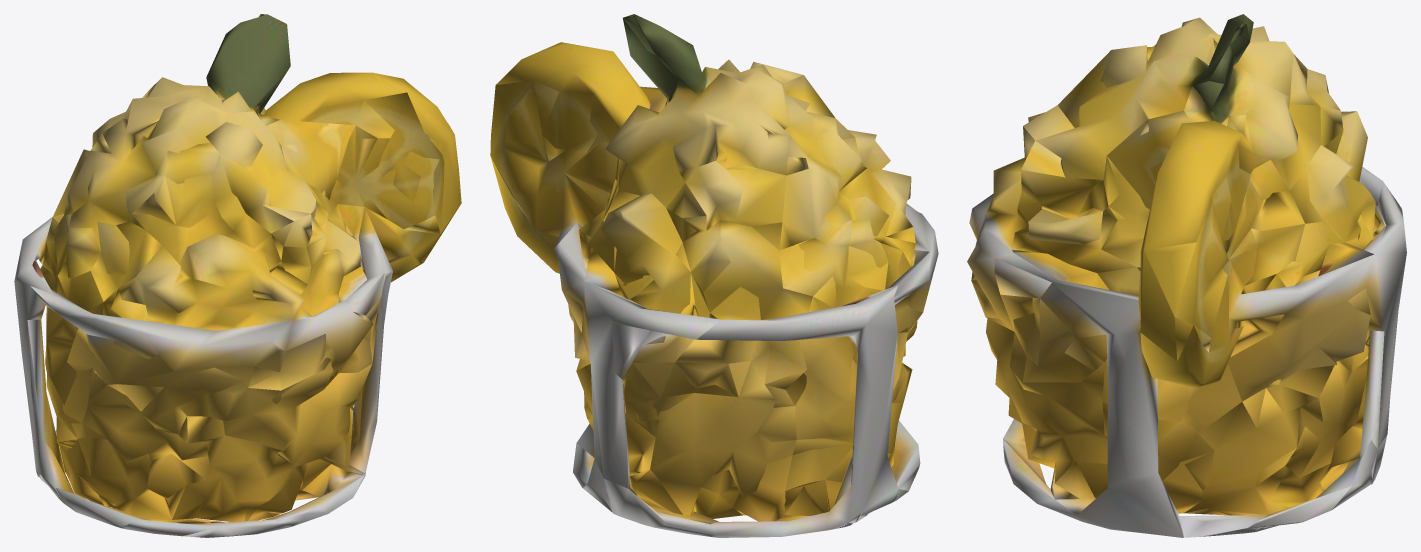
Rendered from IT_사물_s4_food_tier2_lemon_granita.glb.
3 renders of one model, left to right at view 1: azimuth 30°, elevation 25°; view 2: azimuth 150°, elevation 25°; view 3: azimuth 270°, elevation 25°, orthographic. The views are drawn at different scales.
Visible parts, largest first — view 1: tripo_node_b8aa71a6-34ec-4a54-8b8c-88b9dd2adce1; view 2: tripo_node_b8aa71a6-34ec-4a54-8b8c-88b9dd2adce1; view 3: tripo_node_b8aa71a6-34ec-4a54-8b8c-88b9dd2adce1.
Boxes of the visible parts, box(x1,y1,x2,y2) form: tripo_node_b8aa71a6-34ec-4a54-8b8c-88b9dd2adce1: box(14, 14, 461, 537); tripo_node_b8aa71a6-34ec-4a54-8b8c-88b9dd2adce1: box(490, 14, 938, 537); tripo_node_b8aa71a6-34ec-4a54-8b8c-88b9dd2adce1: box(967, 14, 1406, 537).
Size of the model in its own units: 0.4074 by 0.4 by 0.3318.
Materials: 1 (1 with a texture image).
